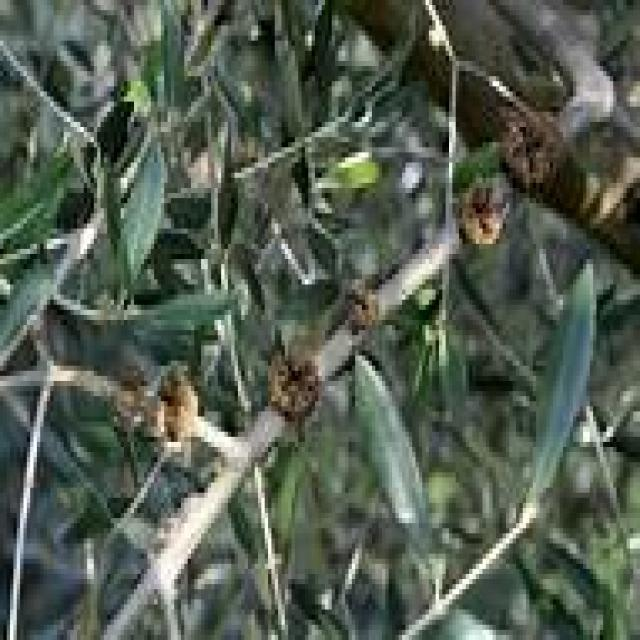Tuberculosis: (108, 361, 194, 447), (500, 107, 560, 188), (459, 175, 512, 239), (268, 361, 318, 422), (342, 284, 376, 346)
